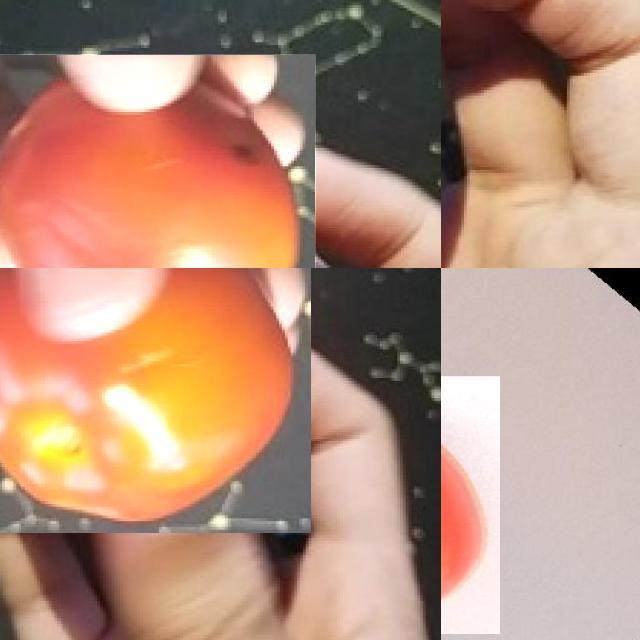Fresh Tomato: (0, 268, 310, 532), (441, 375, 499, 634)
Rotten Tomato: (0, 54, 316, 268)
